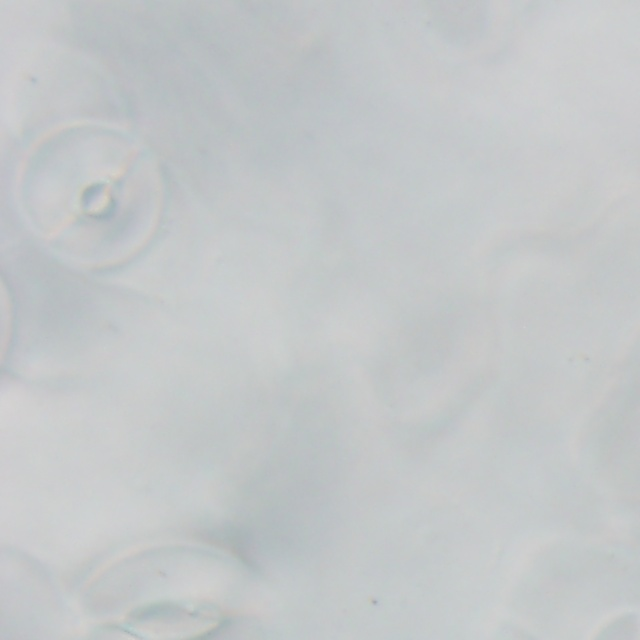center: (76, 178, 121, 218), (130, 584, 222, 599), (604, 623, 626, 628), (0, 319, 26, 322)
stomata-huw1: (20, 124, 164, 268), (74, 544, 278, 639), (591, 612, 639, 639), (0, 277, 12, 364)
